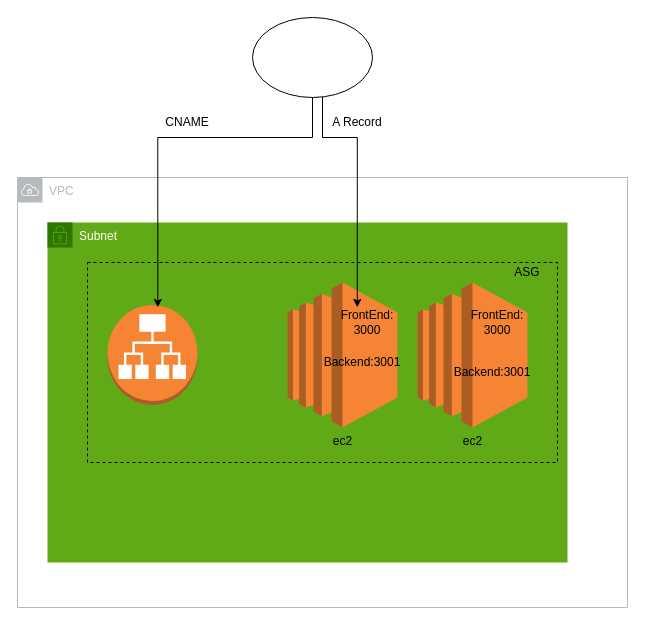
Image size: 645x625. Some labels were removed from this diagram. The shapes that lost their labels are listed below. From the top down, each one's centre as x and y in pixels, then its label:
the point at 312,57: CloudFlare
the point at 152,354: Load Balancer
